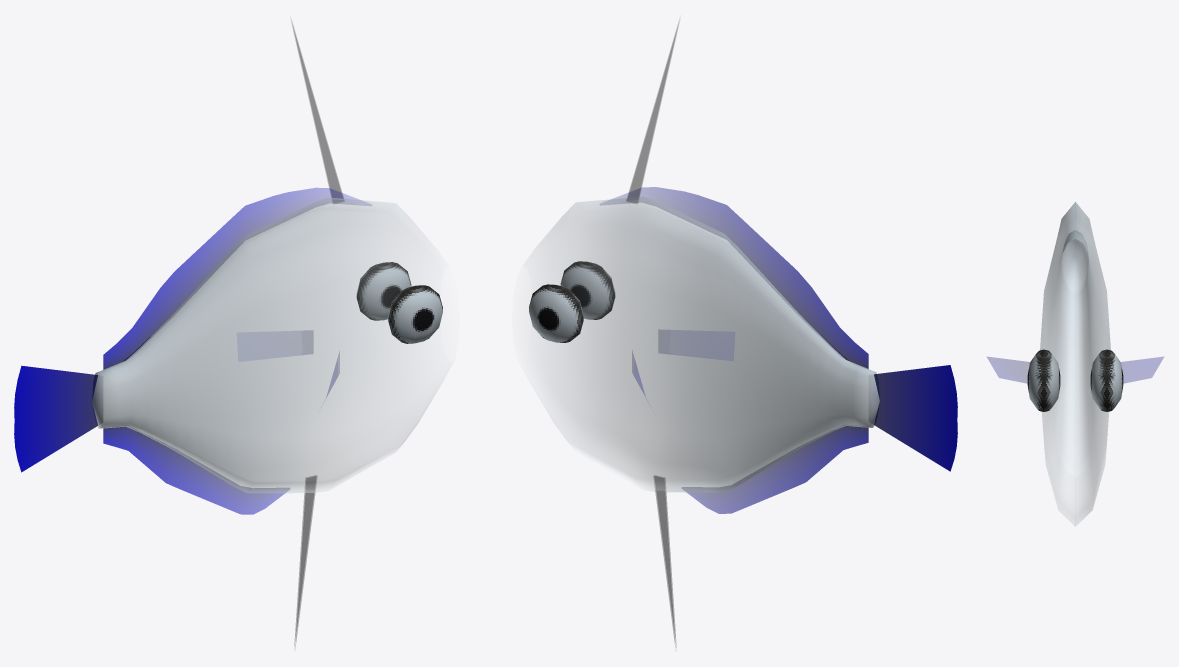
Rendered from brood_tang_postlarva.glb.
3 views of the same model, side by side, from view 1: azimuth 30°, elevation 25°; view 2: azimuth 150°, elevation 25°; view 3: azimuth 270°, elevation 25° (orthographic).
Visible parts, largest first — view 1: Body, Fins, Eyes; view 2: Body, Fins, Eyes; view 3: Body, Eyes, Fins.
Part boxes in pixels (x1,y1,x2,y2): Body: (92,197,434,493); Fins: (14,23,371,645); Eyes: (356,262,442,343); Body: (538,197,879,492); Fins: (600,23,957,646); Eyes: (529,261,615,342); Body: (1040,202,1110,526); Eyes: (1027,349,1123,411); Fins: (987,357,1163,383).
Size of the model in its own units: 1 by 1.34 by 0.34.
Materials: 3 (3 with a texture image).
